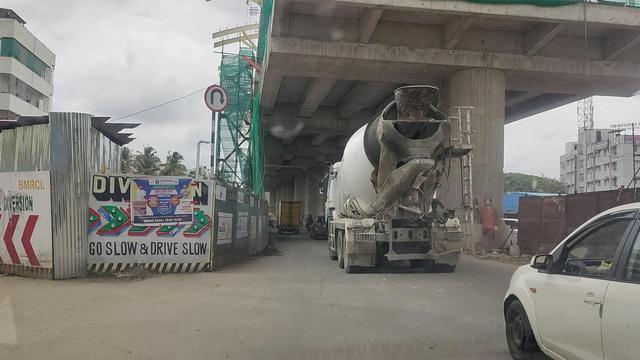HMV: (328, 85, 459, 271), (279, 200, 302, 235)
UnsurfacedRoad: (219, 265, 502, 288)
